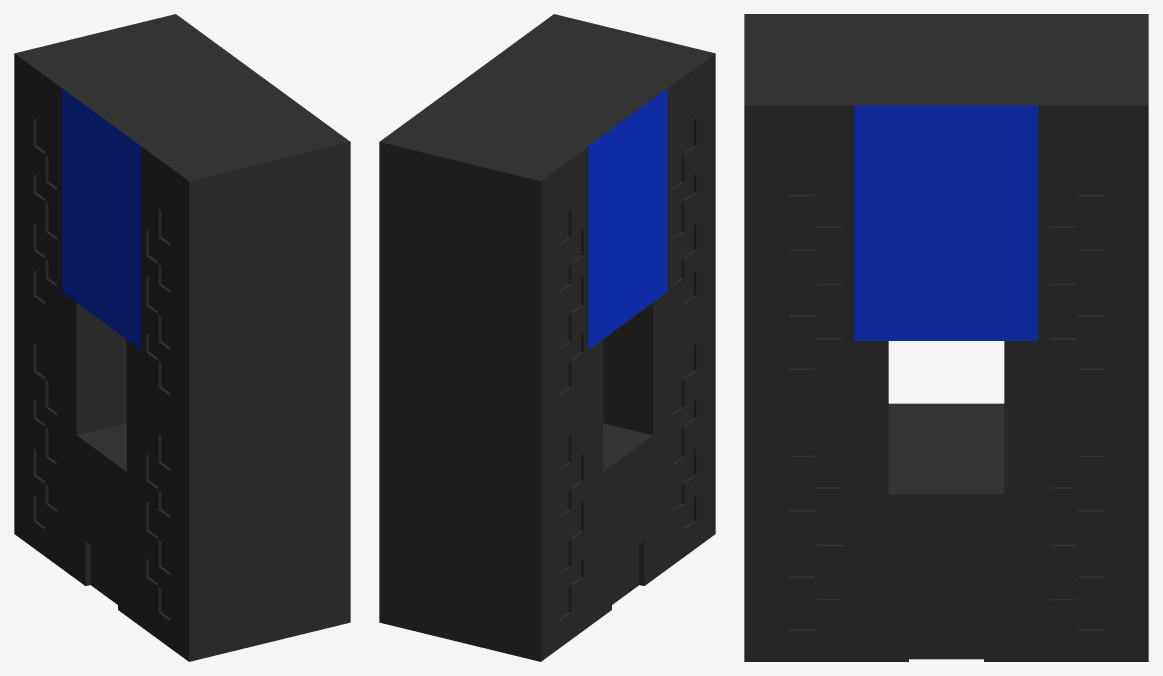
The model's file is FinalBuilding_Big_6.1.fbx.
The picture shows the model from 3 angles, left to right: view 1: azimuth 30°, elevation 25°; view 2: azimuth 150°, elevation 25°; view 3: azimuth 270°, elevation 25°; orthographic projection. The views are drawn at different scales.
Parts seen in each view (by area): view 1: Buildings_Big_013; view 2: Buildings_Big_013; view 3: Buildings_Big_013.
Boxes of the visible parts, x1,y1,x2,y2 form: Buildings_Big_013: [14, 14, 350, 661]; Buildings_Big_013: [379, 14, 715, 661]; Buildings_Big_013: [744, 14, 1148, 661].
Size of the model in its own units: 11.72 by 33.33 by 21.96.
